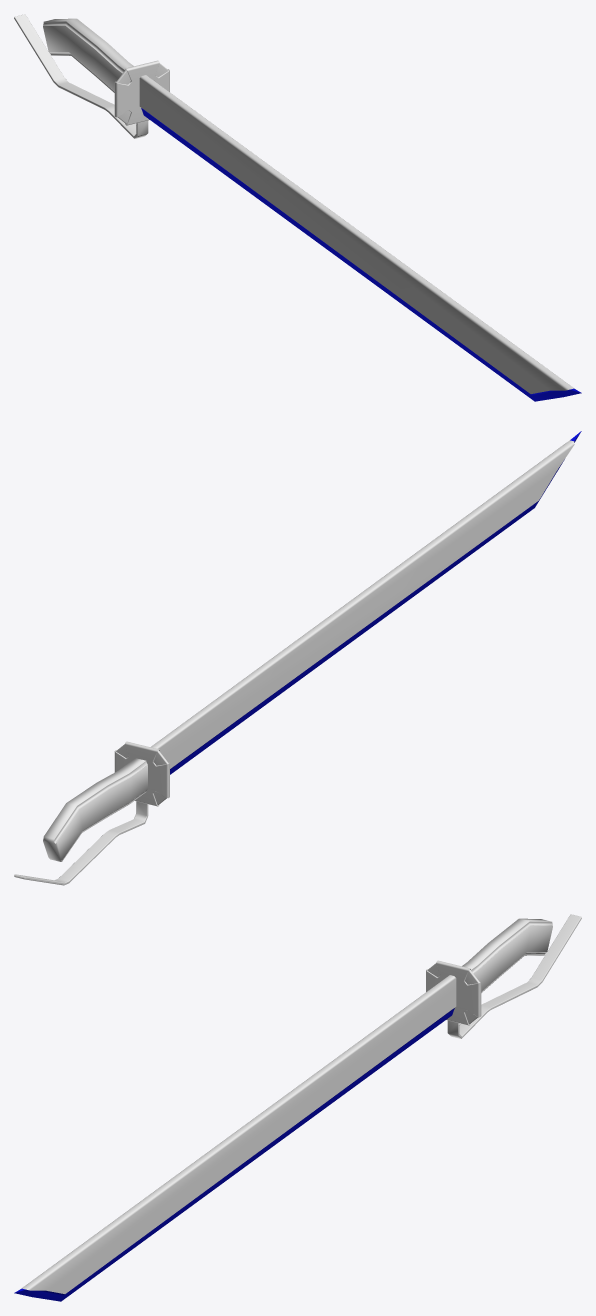
Rendered from Cyber_Sword.fbx.
3 renders of one model, top to bottom at view 1: azimuth 30°, elevation 25°; view 2: azimuth 150°, elevation 25°; view 3: azimuth 330°, elevation 25°, orthographic.
Visible parts, largest first — view 1: Plane, Cube.002, Cube, Cube.001; view 2: Plane, Cube.002, Cube, Cube.001; view 3: Plane, Cube.002, Cube, Cube.001.
Part boxes in pixels (x1,y1,x2,y2): Plane: [139, 75, 581, 401]; Cube.002: [43, 18, 133, 92]; Cube: [114, 60, 169, 125]; Cube.001: [14, 14, 148, 138]; Plane: [150, 431, 581, 774]; Cube.002: [43, 758, 147, 861]; Cube: [114, 741, 169, 806]; Cube.001: [14, 801, 148, 885]; Plane: [14, 975, 456, 1301]; Cube.002: [462, 918, 552, 992]; Cube: [426, 960, 481, 1025]; Cube.001: [447, 914, 581, 1038].
Bounding box in the file's own units: 63.49 × 88.86 × 1151.
